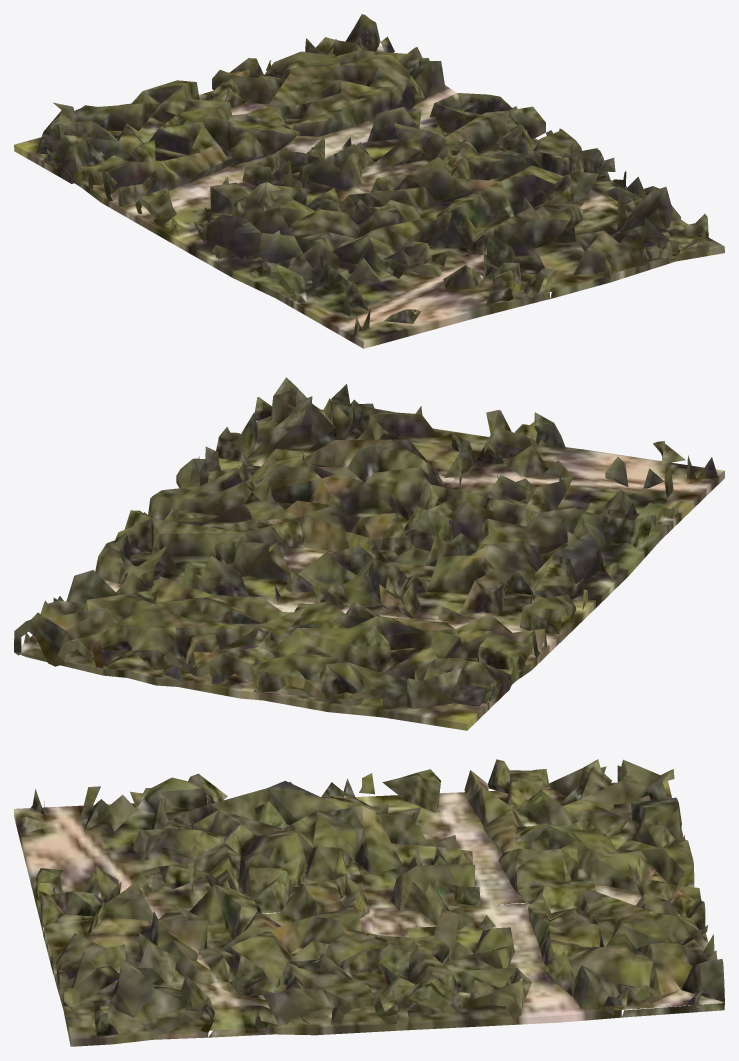
3 renders of one model, top to bottom at view 1: azimuth 30°, elevation 25°; view 2: azimuth 150°, elevation 25°; view 3: azimuth 270°, elevation 25°, orthographic. The views are drawn at different scales.
Visible parts, largest first — view 1: Mesh_0; view 2: Mesh_0; view 3: Mesh_0.
Part boxes in pixels (bbox=[...]): Mesh_0: bbox=[14, 14, 724, 348]; Mesh_0: bbox=[14, 377, 724, 730]; Mesh_0: bbox=[14, 759, 724, 1046].
Size of the model in its own units: 266 by 34.8 by 330.
2 materials, 2 textured.
